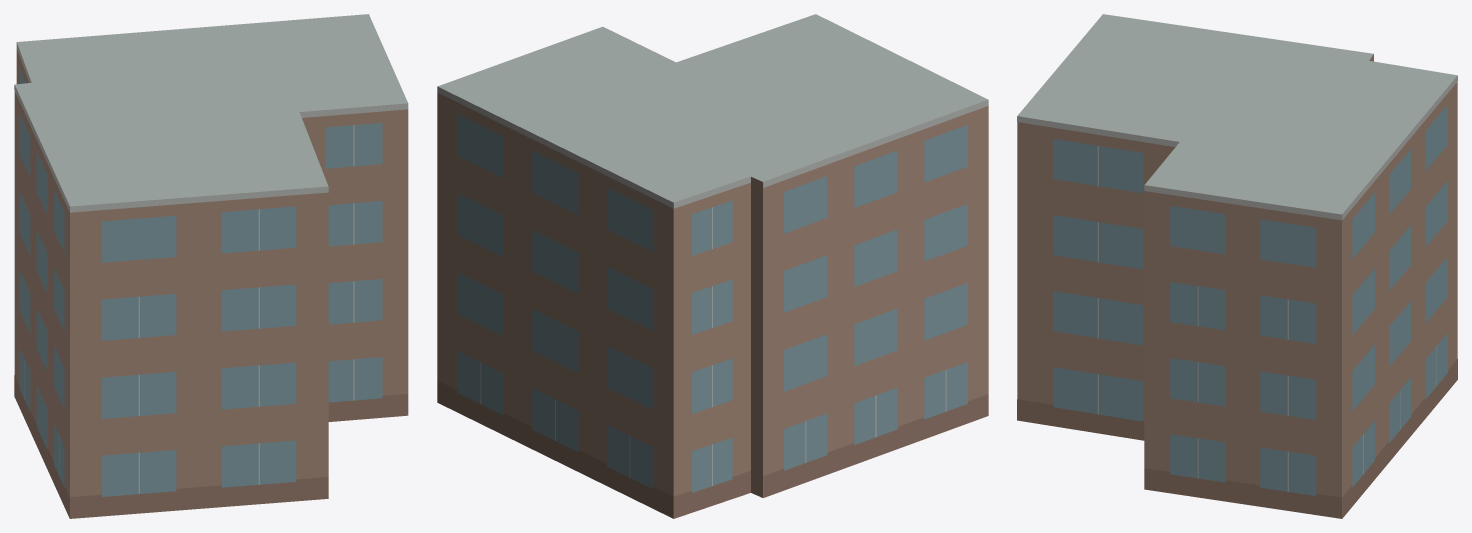
Rendered from survey-upis-32709038.glb.
3 renders of one model, left to right at view 1: azimuth 30°, elevation 25°; view 2: azimuth 150°, elevation 25°; view 3: azimuth 270°, elevation 25°, orthographic. The views are drawn at different scales.
Visible parts, largest first — view 1: survey-upis-32709038.tmp; view 2: survey-upis-32709038.tmp; view 3: survey-upis-32709038.tmp.
Part boxes in pixels (bbox=[...]): survey-upis-32709038.tmp: bbox=[14, 14, 408, 518]; survey-upis-32709038.tmp: bbox=[437, 14, 988, 518]; survey-upis-32709038.tmp: bbox=[1017, 14, 1457, 518].
Size of the model in its own units: 17.96 by 12.7 by 16.68.
